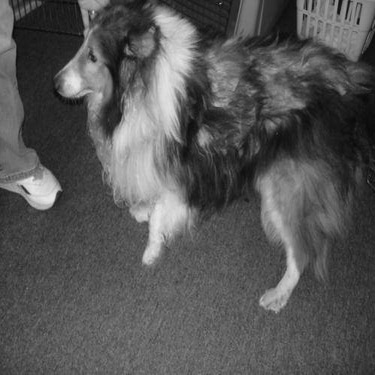dog: (47, 1, 371, 316)
